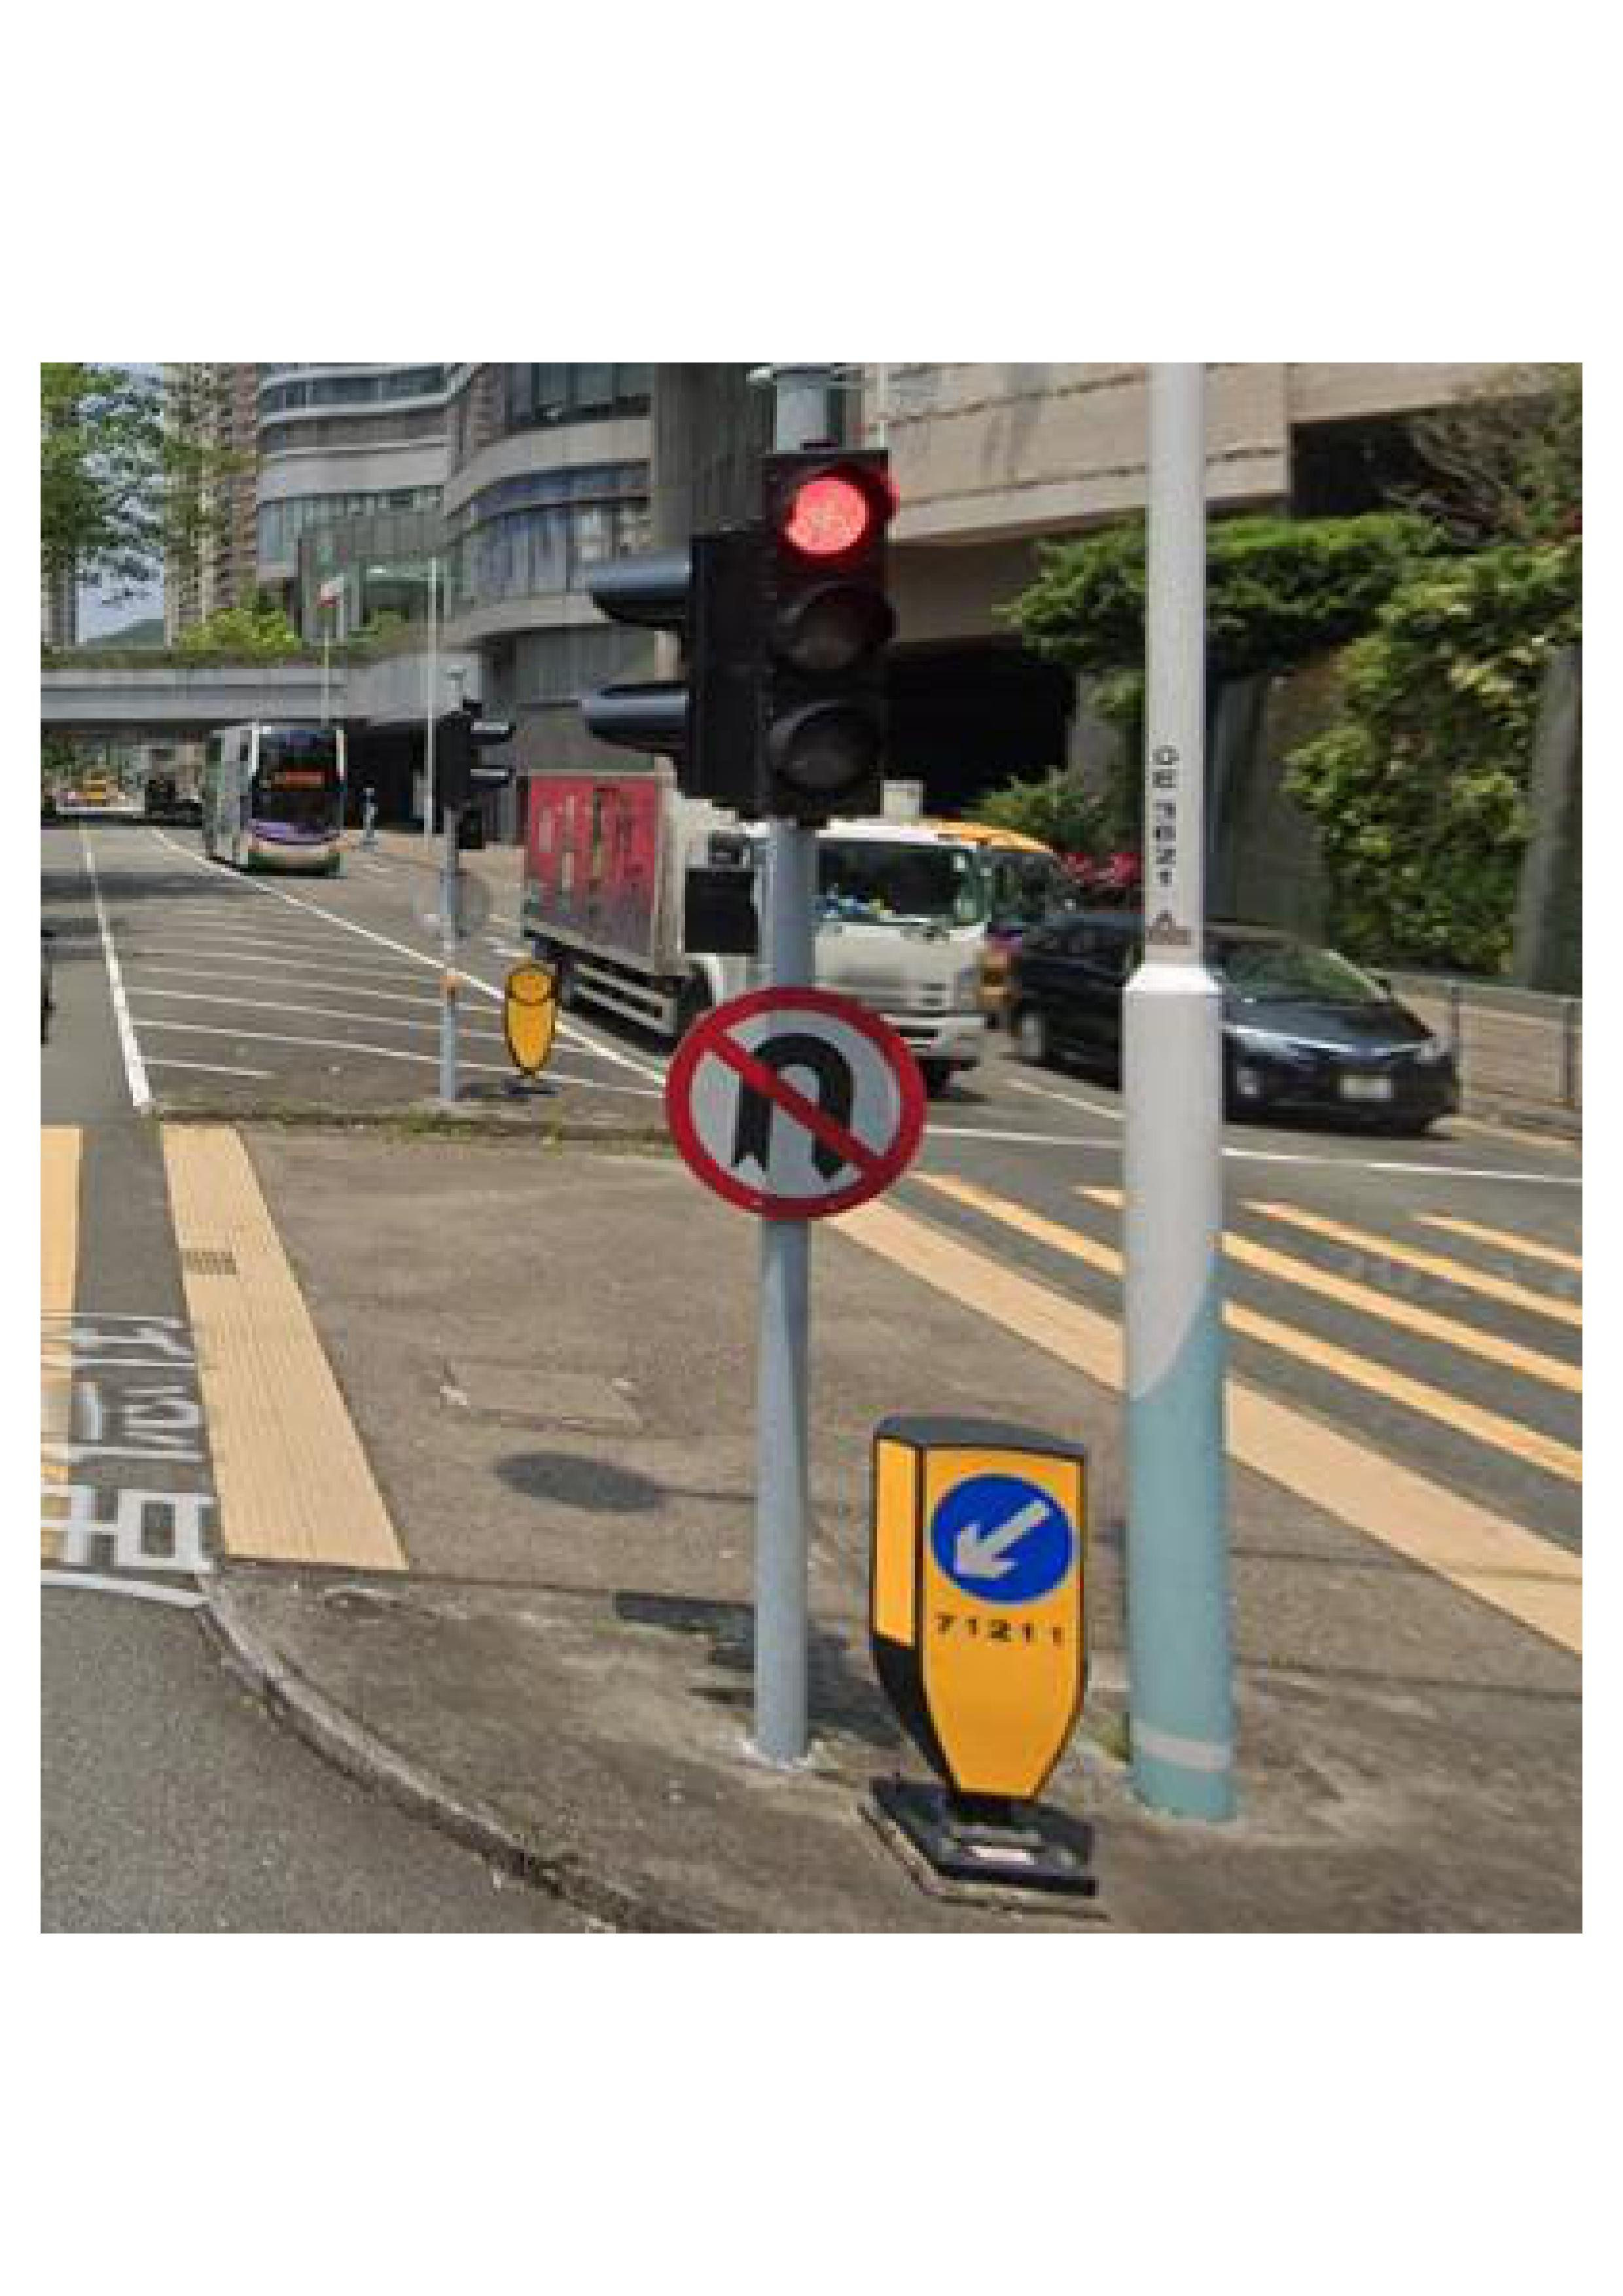No Uturn: (660, 987, 940, 1211)
